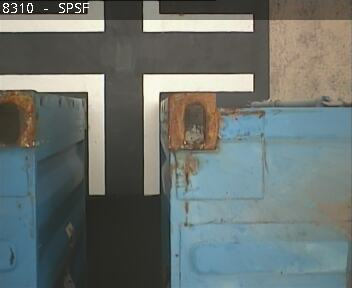groundmarker_1: (1, 74, 252, 194), (1, 1, 254, 33)
